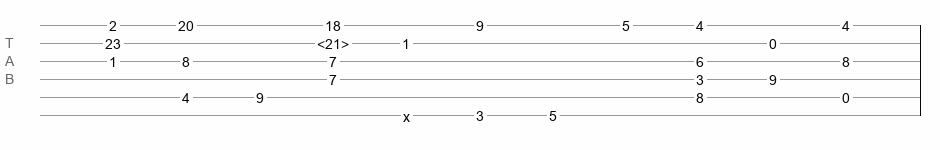0: (769, 36, 777, 46), (842, 90, 850, 100)
1: (109, 54, 117, 64), (402, 36, 410, 46)
18: (325, 18, 341, 28)
2: (109, 18, 117, 28)
20: (178, 18, 194, 28)
23: (105, 36, 121, 46)
3: (476, 108, 484, 118), (696, 72, 704, 82)
4: (182, 90, 190, 100), (696, 18, 704, 28), (842, 18, 850, 28)
5: (549, 108, 557, 118), (622, 18, 630, 28)
6: (696, 54, 704, 64)
7: (329, 72, 337, 82), (329, 54, 337, 64)
8: (182, 54, 190, 64), (696, 90, 704, 100), (842, 54, 850, 64)
9: (256, 90, 264, 100), (476, 18, 484, 28), (769, 72, 777, 82)
harmonic: (317, 36, 349, 46)
x: (403, 109, 410, 117)
